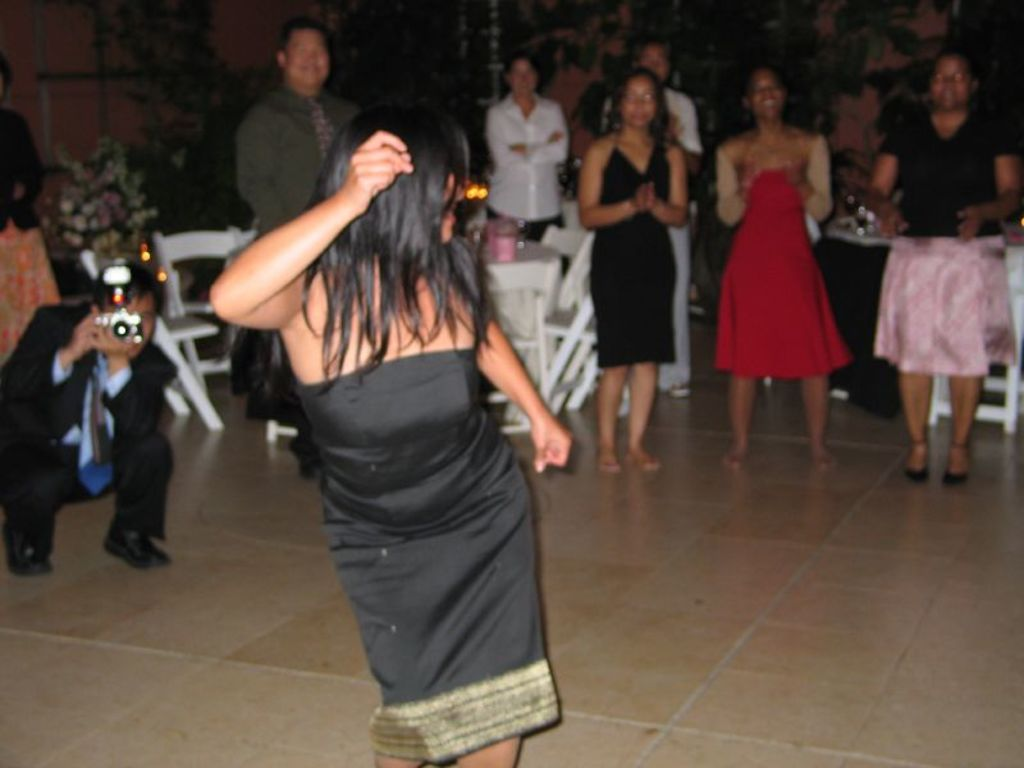person: (231, 14, 362, 239)
